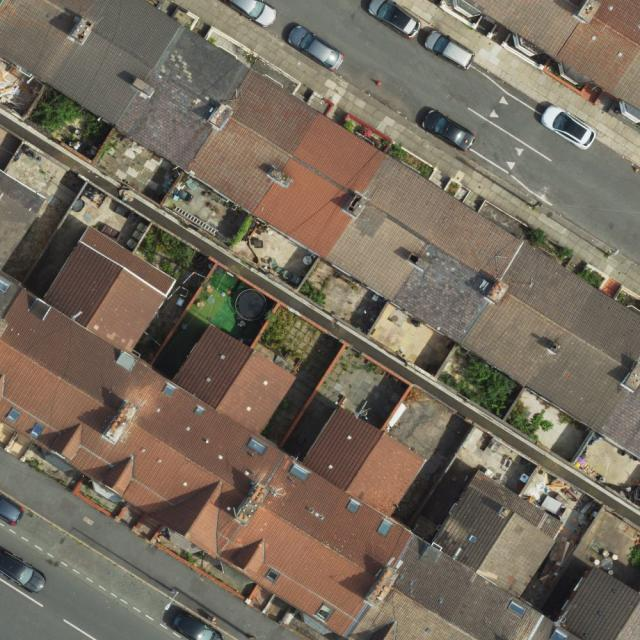roof: (0, 0, 640, 460), (1, 222, 640, 640), (462, 0, 640, 111)
skylight: (116, 351, 139, 372), (247, 437, 268, 456), (507, 599, 527, 618), (290, 463, 310, 481), (315, 603, 334, 620), (376, 519, 393, 537), (160, 383, 178, 398), (346, 498, 361, 514), (550, 627, 569, 639), (29, 423, 43, 439), (265, 567, 280, 581), (7, 408, 21, 422), (0, 276, 11, 293), (192, 405, 205, 417), (468, 536, 476, 544)
